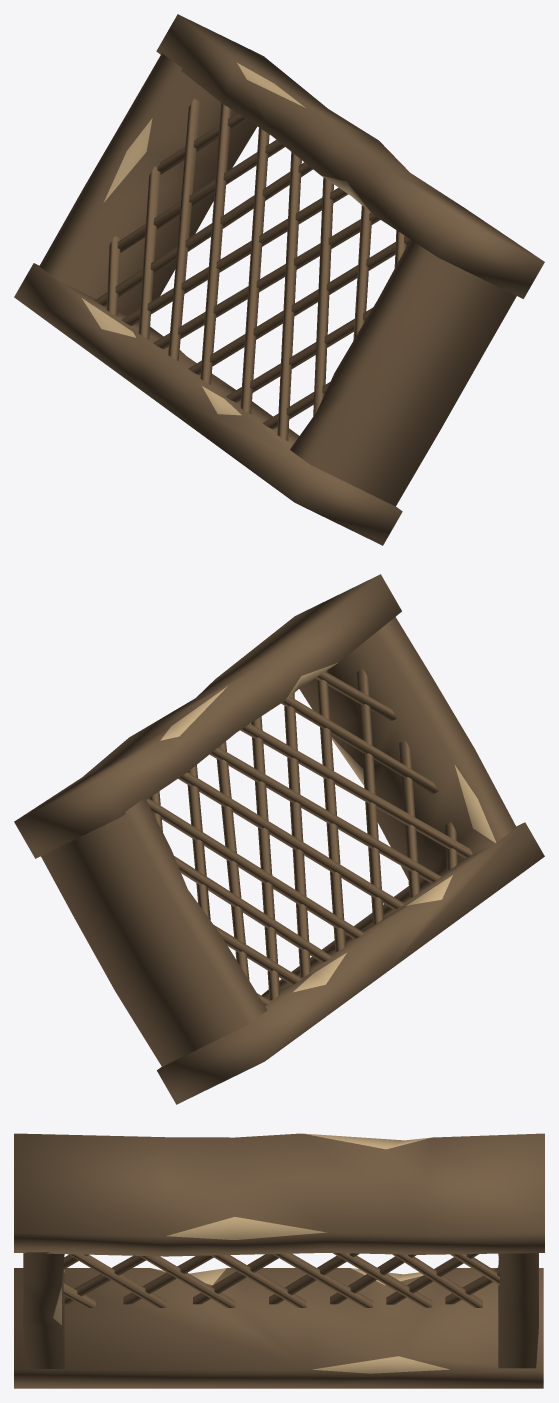
The model's file is rpgpp_ag_roof_01d_half_window_03.fbx.
3 renders of one model, top to bottom at view 1: azimuth 30°, elevation 25°; view 2: azimuth 150°, elevation 25°; view 3: azimuth 270°, elevation 25°, orthographic. The views are drawn at different scales.
Parts seen in each view (by area): view 1: rpgpp_ag_roof_01d_half_window_03; view 2: rpgpp_ag_roof_01d_half_window_03; view 3: rpgpp_ag_roof_01d_half_window_03.
Boxes of the visible parts, x1,y1,x2,y2 form: rpgpp_ag_roof_01d_half_window_03: (14, 14, 544, 545); rpgpp_ag_roof_01d_half_window_03: (14, 574, 544, 1104); rpgpp_ag_roof_01d_half_window_03: (14, 1133, 544, 1388).
Bounding box in the file's own units: 1.19 × 1.4 × 2.32.
